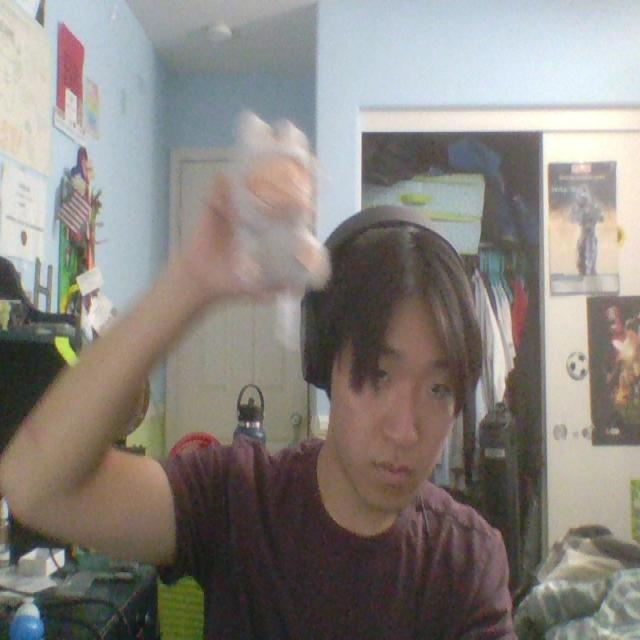labubu: (226, 112, 330, 296)
